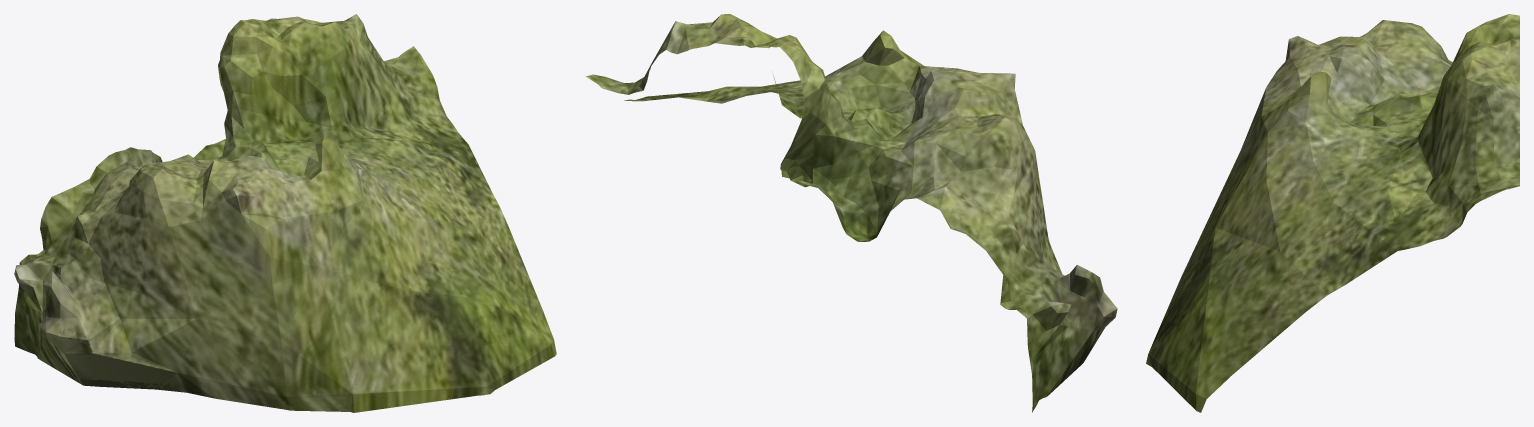
3 views of the same model, side by side, from view 1: azimuth 30°, elevation 25°; view 2: azimuth 150°, elevation 25°; view 3: azimuth 270°, elevation 25° (orthographic). The views are drawn at different scales.
Bounding box in the file's own units: 5.36 × 3.31 × 3.69.
Materials: 2 (2 with a texture image).
